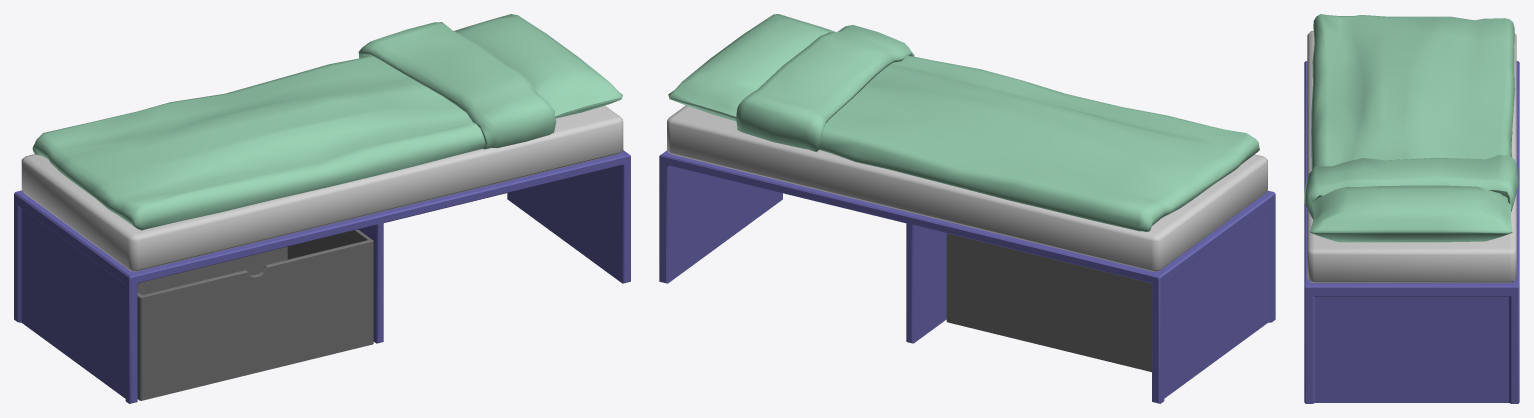
File: OddaGuestBedWithStorage.FBX
3 views of the same model, side by side, from view 1: azimuth 30°, elevation 25°; view 2: azimuth 150°, elevation 25°; view 3: azimuth 270°, elevation 25° (orthographic). The views are drawn at different scales.
Visible parts, largest first — view 1: OddaGuestBedWithStorage; view 2: OddaGuestBedWithStorage; view 3: OddaGuestBedWithStorage.
Part boxes in pixels (bbox=[...]): OddaGuestBedWithStorage: bbox=[14, 14, 630, 403]; OddaGuestBedWithStorage: bbox=[659, 14, 1275, 403]; OddaGuestBedWithStorage: bbox=[1304, 14, 1519, 403].
Size of the model in its own units: 206 by 83.06 by 80.78.
